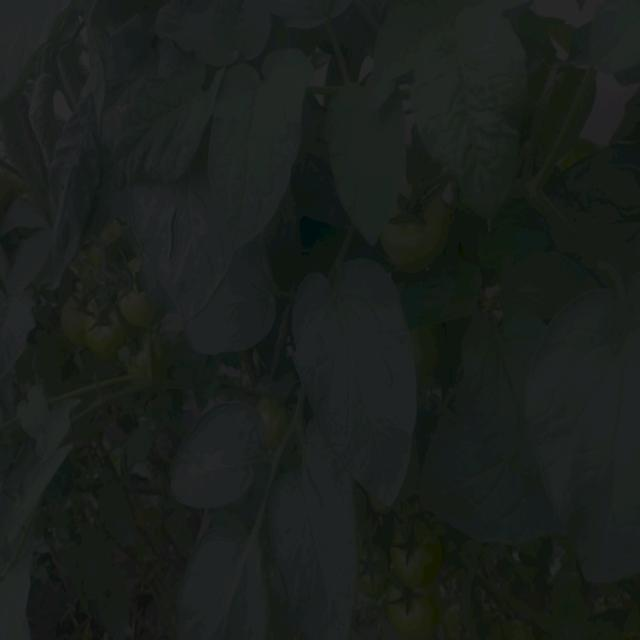tomato: (382, 198, 459, 282), (384, 512, 447, 584), (379, 577, 441, 640), (86, 299, 134, 368), (118, 261, 162, 328), (263, 398, 298, 451), (357, 545, 389, 602), (62, 290, 91, 342)
